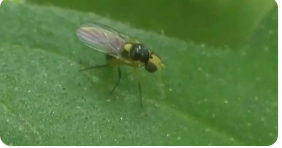liriomyza: (76, 21, 165, 108)
